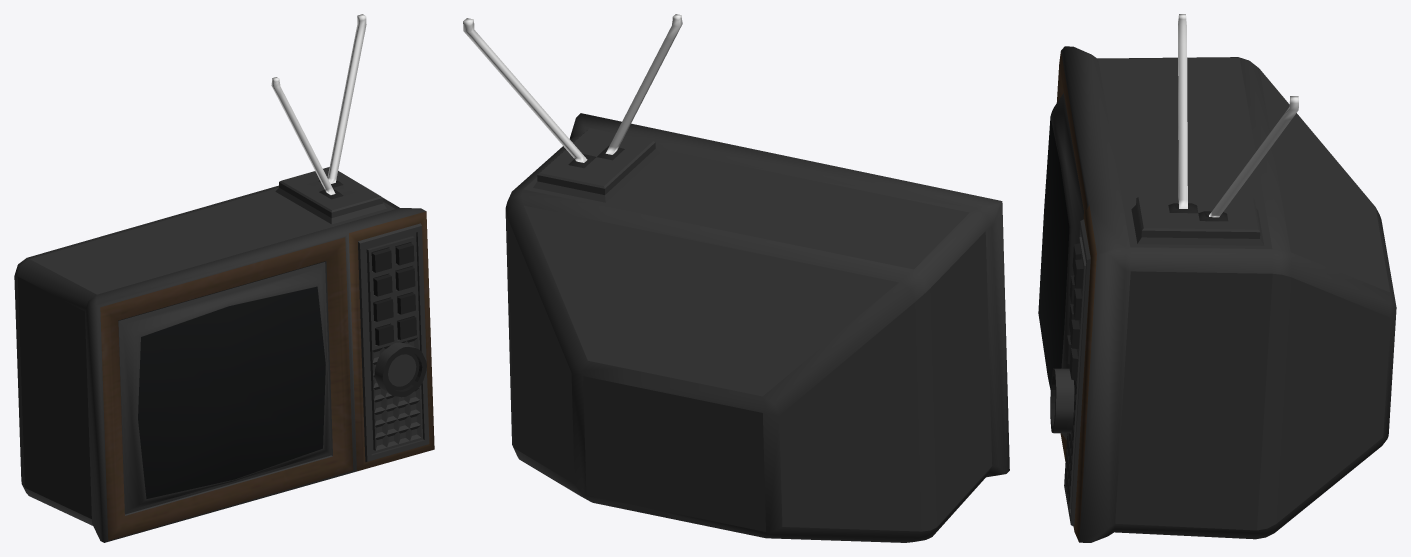
File: television.glb
The picture shows the model from 3 angles, left to right: view 1: azimuth 30°, elevation 25°; view 2: azimuth 150°, elevation 25°; view 3: azimuth 270°, elevation 25°; orthographic projection. The views are drawn at different scales.
Visible parts, largest first — view 1: Television; view 2: Television; view 3: Television.
Boxes of the visible parts, left/top/right/bottom form: Television: left=14, top=14, right=434, bottom=542; Television: left=463, top=14, right=1009, bottom=542; Television: left=1038, top=14, right=1396, bottom=542.
Bounding box in the file's own units: 1.04 × 1.01 × 0.7069.
Materials: 6 (1 with a texture image).
